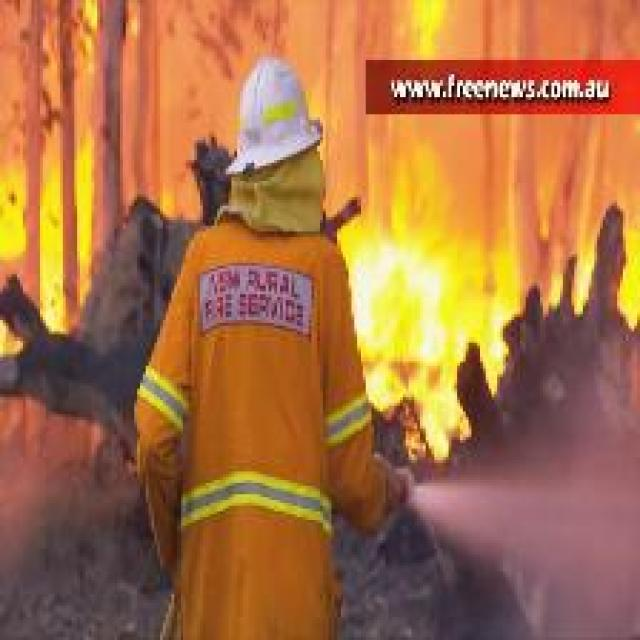fire: (304, 6, 627, 425), (3, 6, 186, 306)
